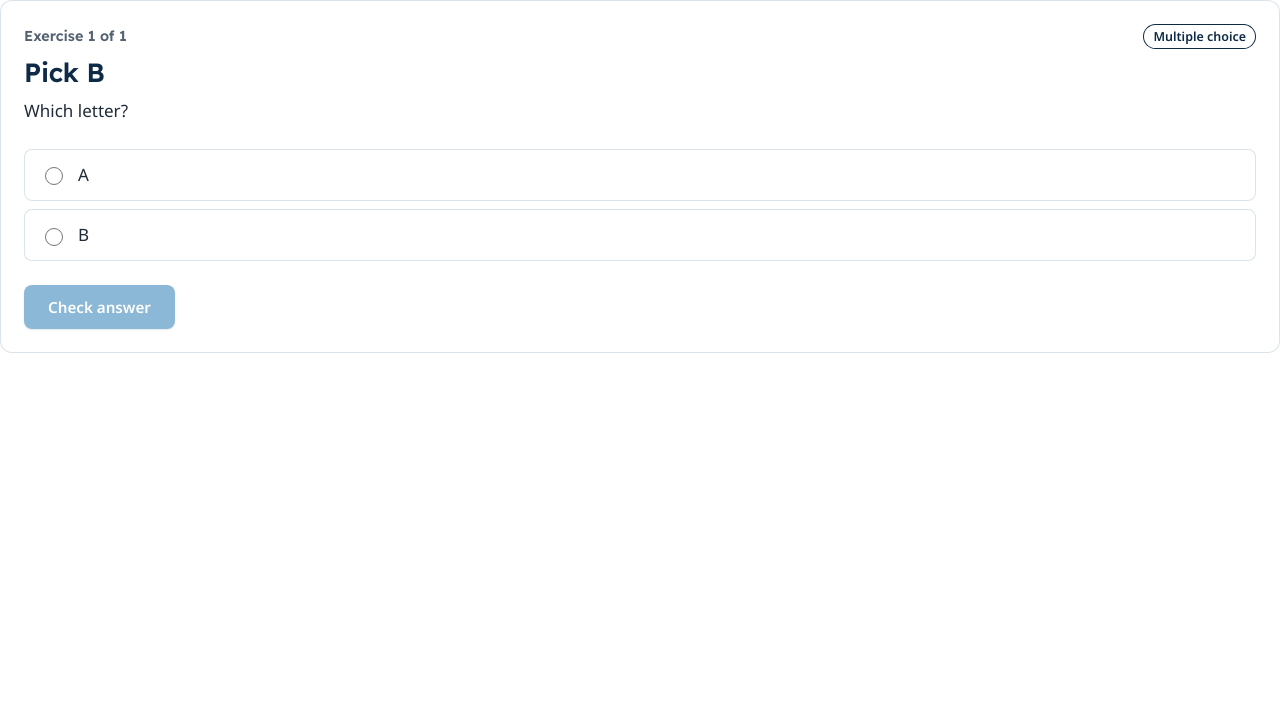
Test case: ExerciseShell › unlocks the solution only after two failed attempts
Click the radio button labelled "A" at [54, 176], box [45,168,63,186]
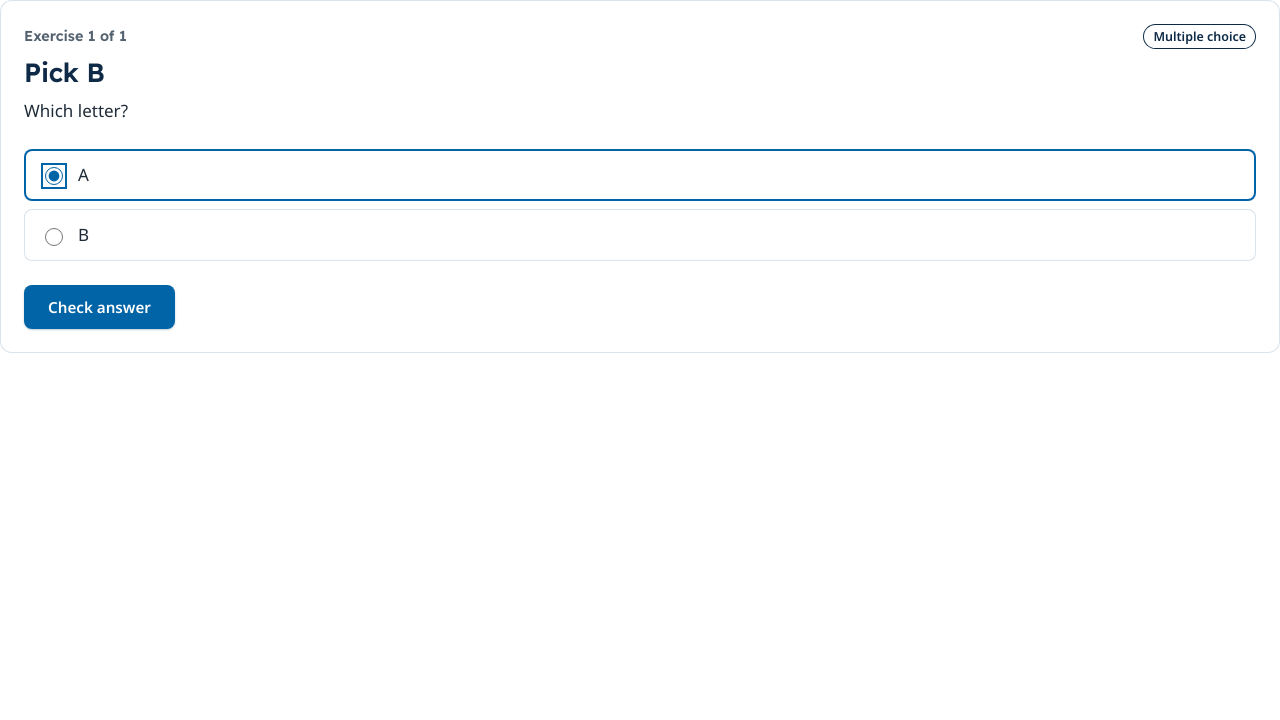
Click the button "Check answer" at [99, 307], box [24,285,175,329]
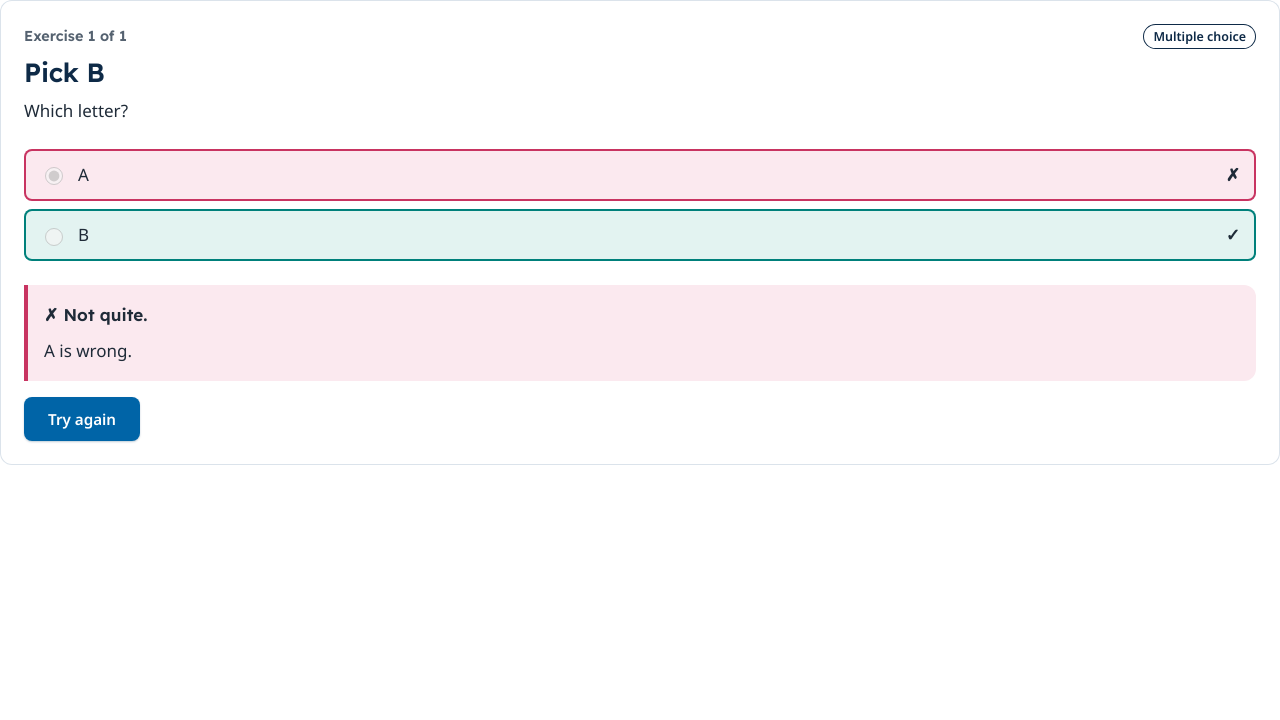
Expected: the button "Show solution" is not shown
Result: the text "A is wrong." is shown at [44,339,132,362]
Click the button "Try again" at [82, 419], box [24,397,140,441]
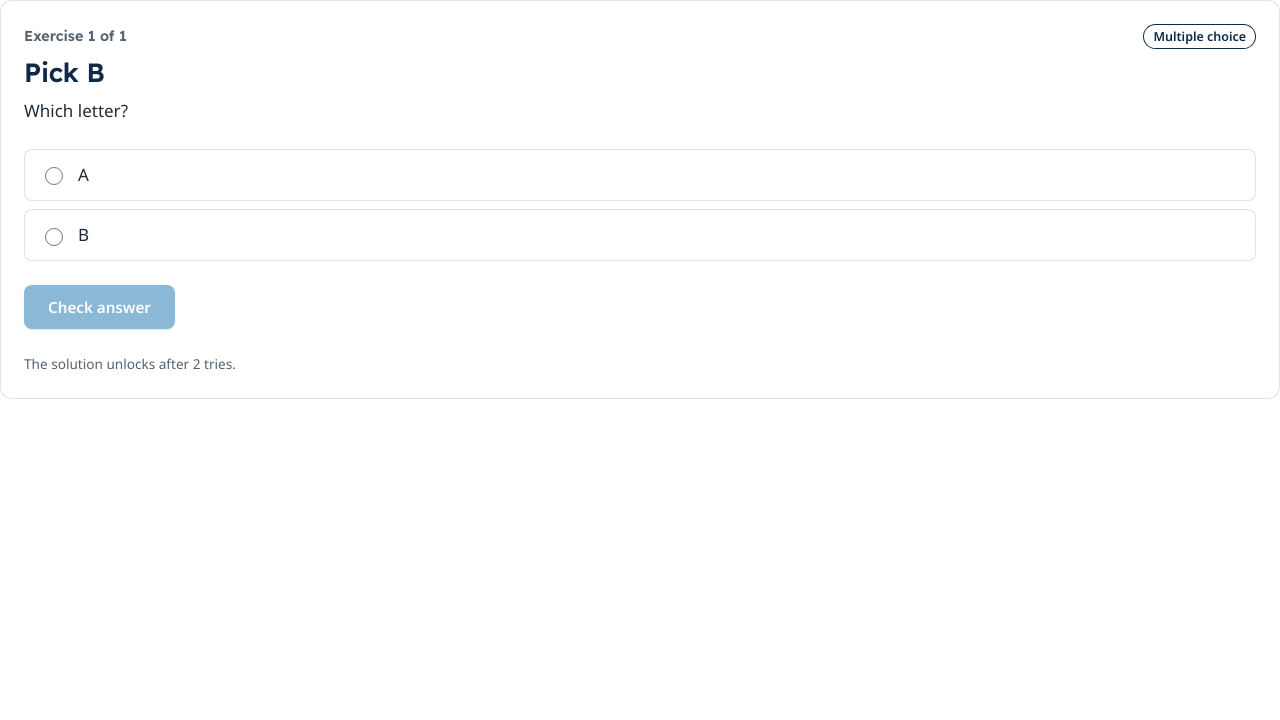
Click the radio button labelled "A" at [54, 176], box [45,168,63,186]
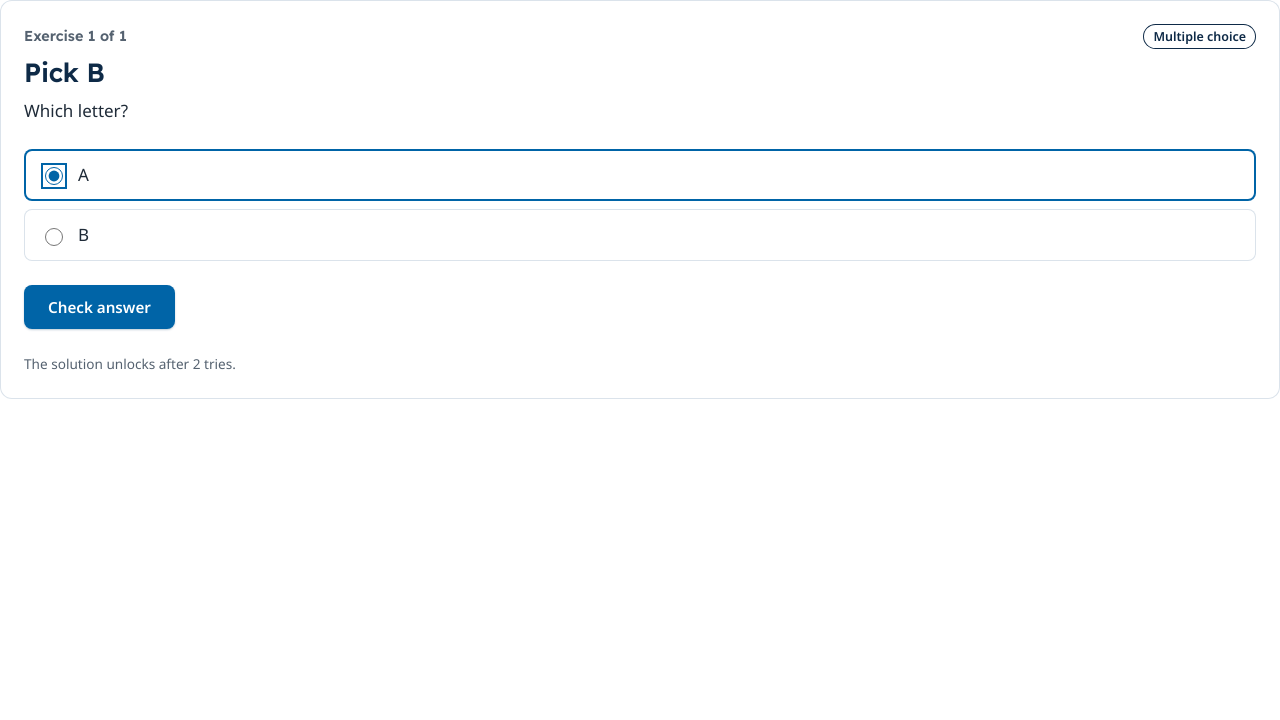
Click the button "Check answer" at [99, 307], box [24,285,175,329]
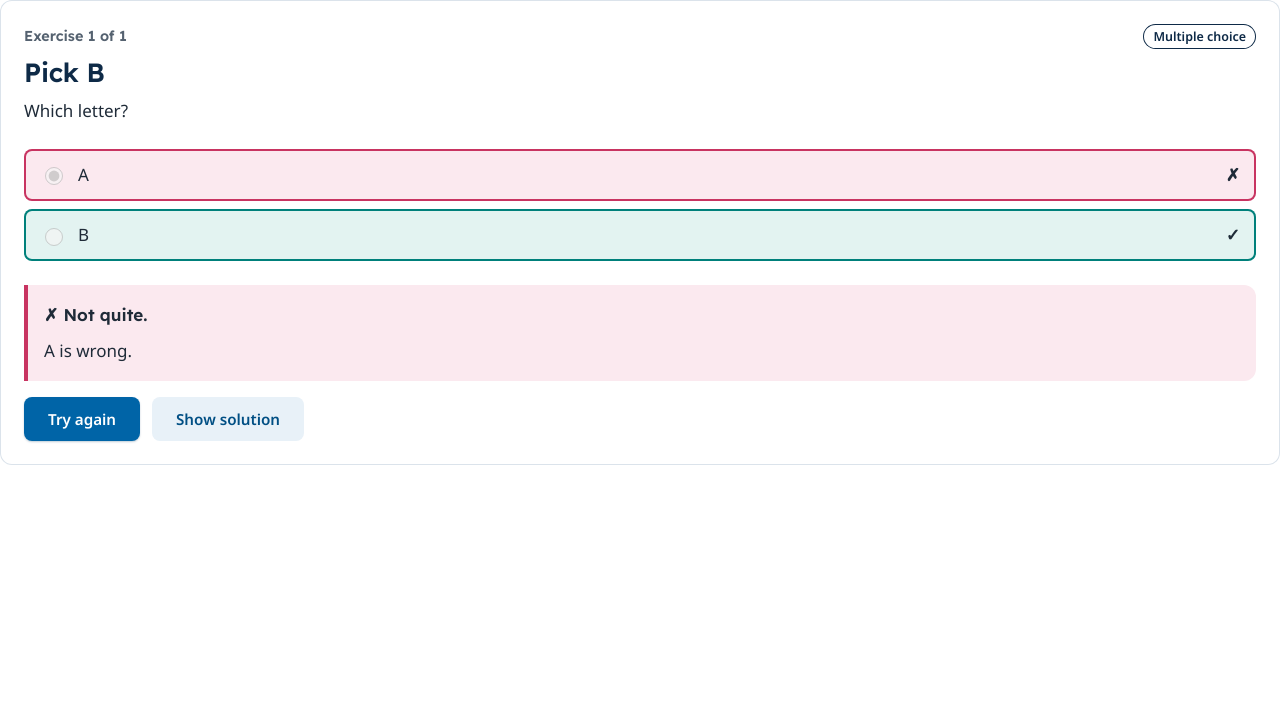
Click the button "Show solution" at [228, 419], box [152,397,304,441]
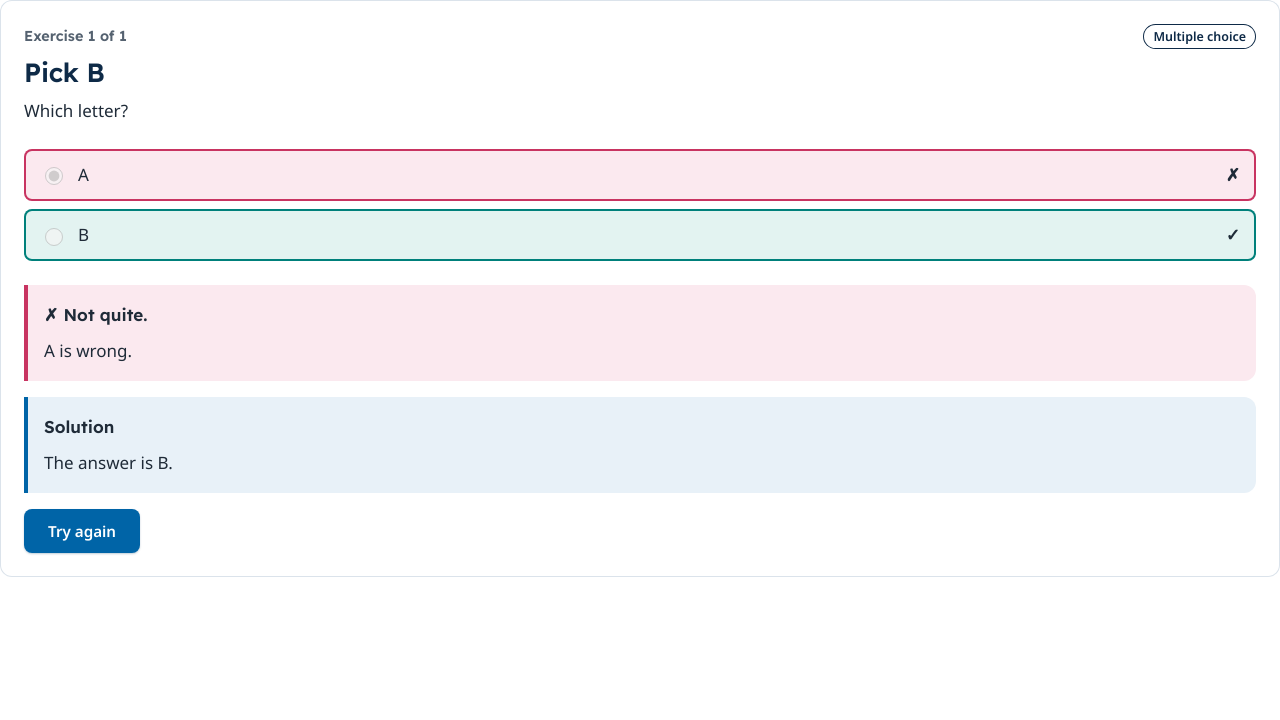
Result: the text "The answer is B." is shown at [44,451,173,474]
